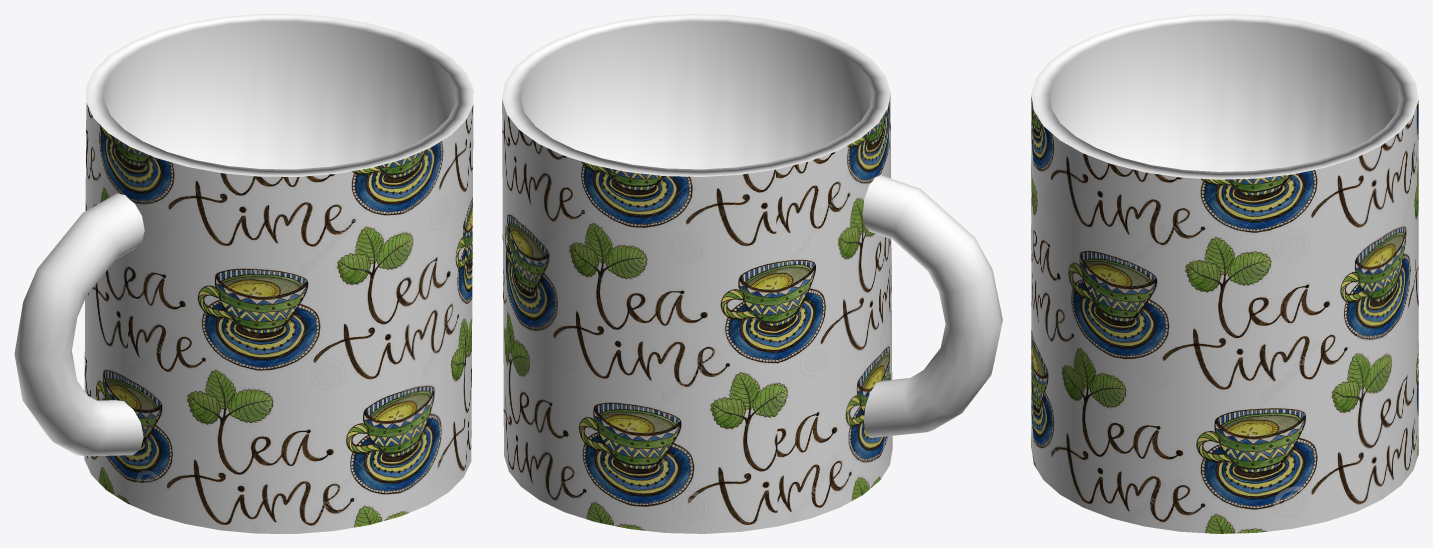
File: KTB0110021.fbx
The picture shows the model from 3 angles, left to right: view 1: azimuth 30°, elevation 25°; view 2: azimuth 150°, elevation 25°; view 3: azimuth 270°, elevation 25°; orthographic projection.
Visible parts, largest first — view 1: smKTB0110021; view 2: smKTB0110021; view 3: smKTB0110021.
Part boxes in pixels (<box>): smKTB0110021: <box>14,14,473,533</box>; smKTB0110021: <box>502,14,1002,533</box>; smKTB0110021: <box>1031,14,1418,533</box>.
Bounding box in the file's own units: 18.84 × 14.33 × 14.08.
Materials: 1 (1 with a texture image).
